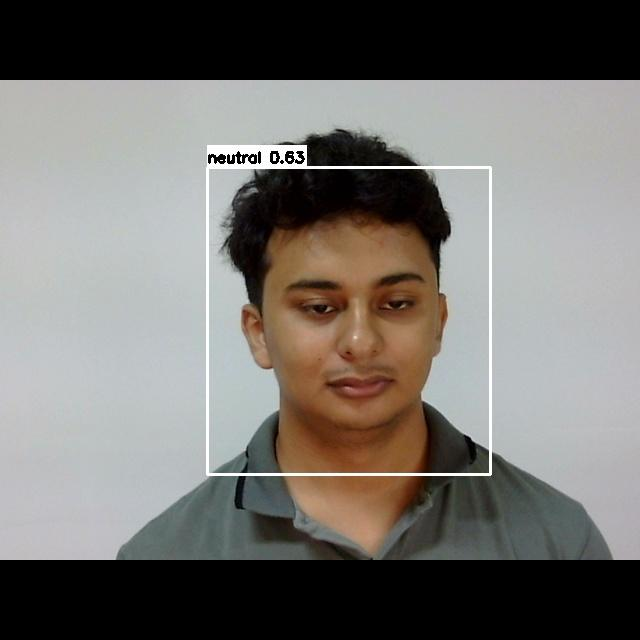Natural: (266, 252, 459, 426)
